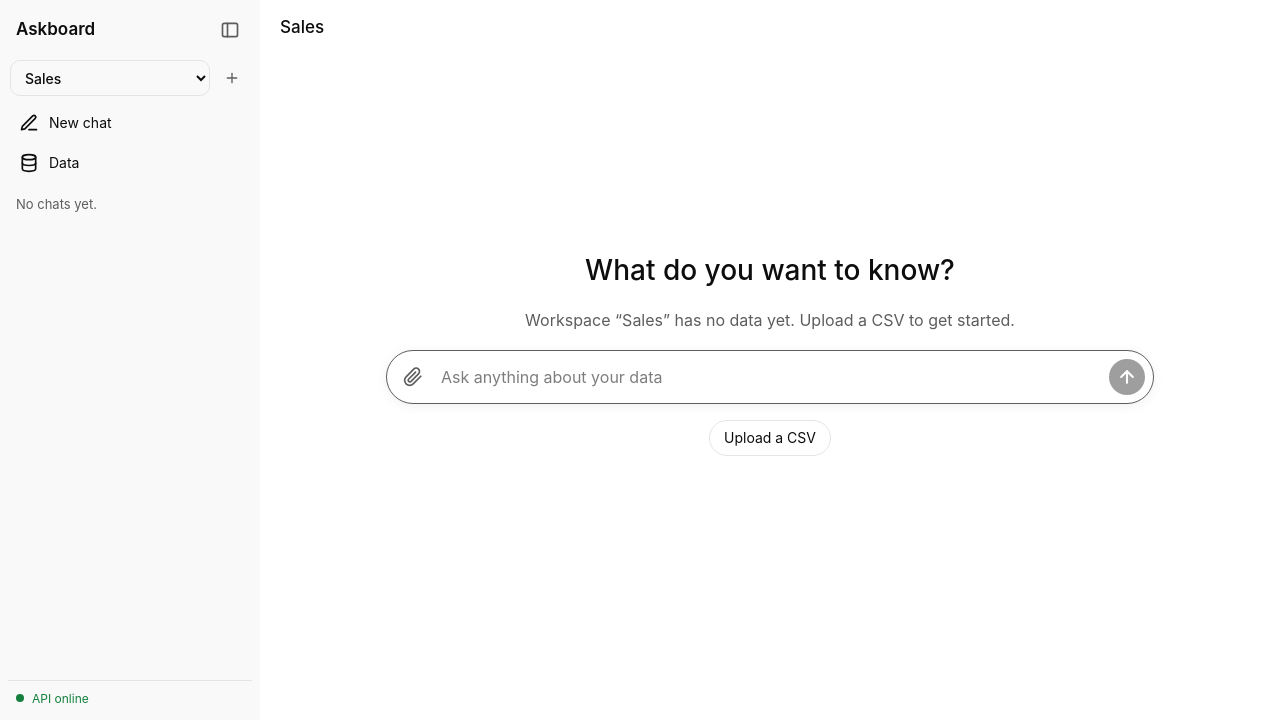
Test: App › collapses and reopens the sidebar
Step 1. Click the button named "Close sidebar" → (230, 30), box [212,12,248,48]
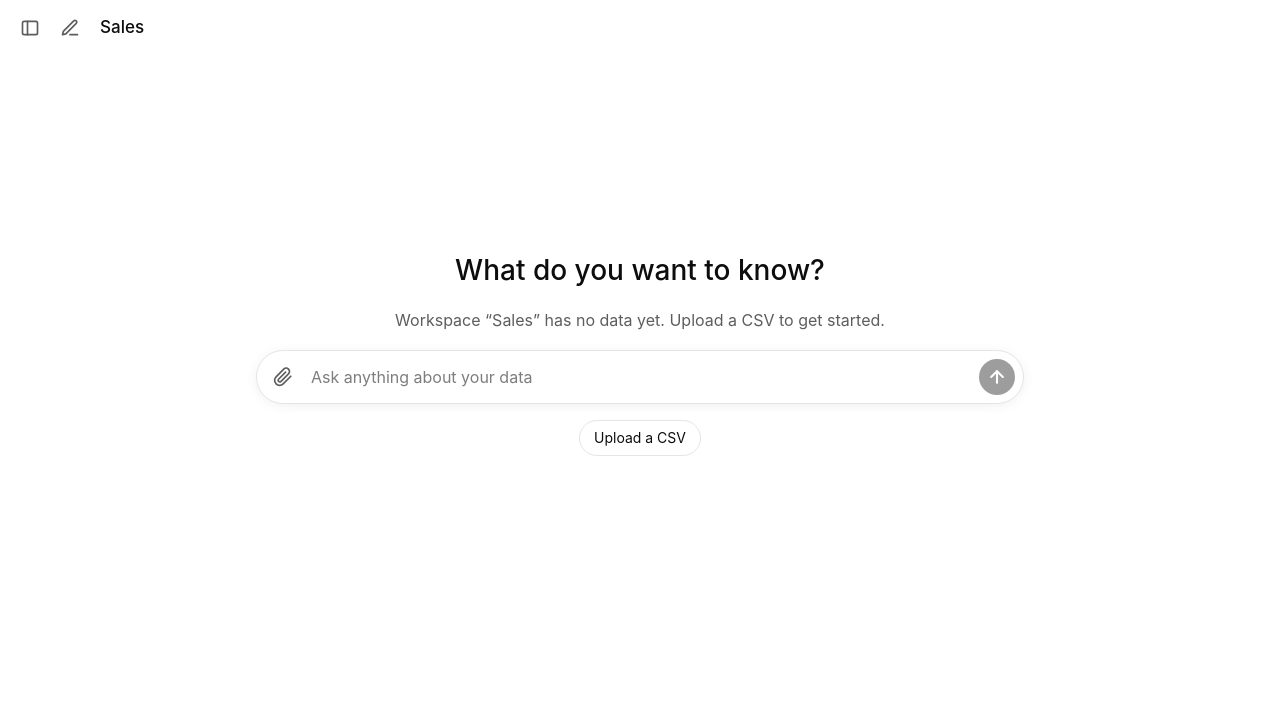
Expected: the button "Sidebar" is gone
Step 2. Click the button named "Open sidebar" → (30, 28), box [12,10,48,46]
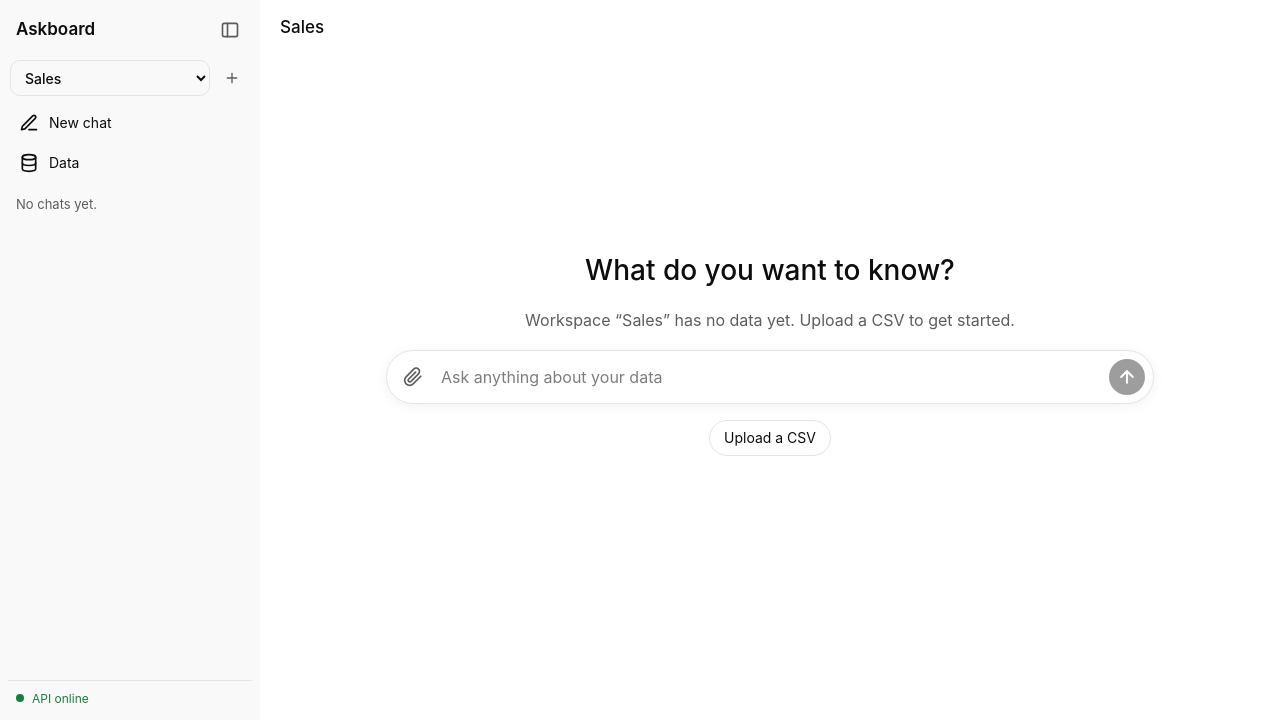
Expected: the element named "Sidebar" is shown, [0,0,260,719]
